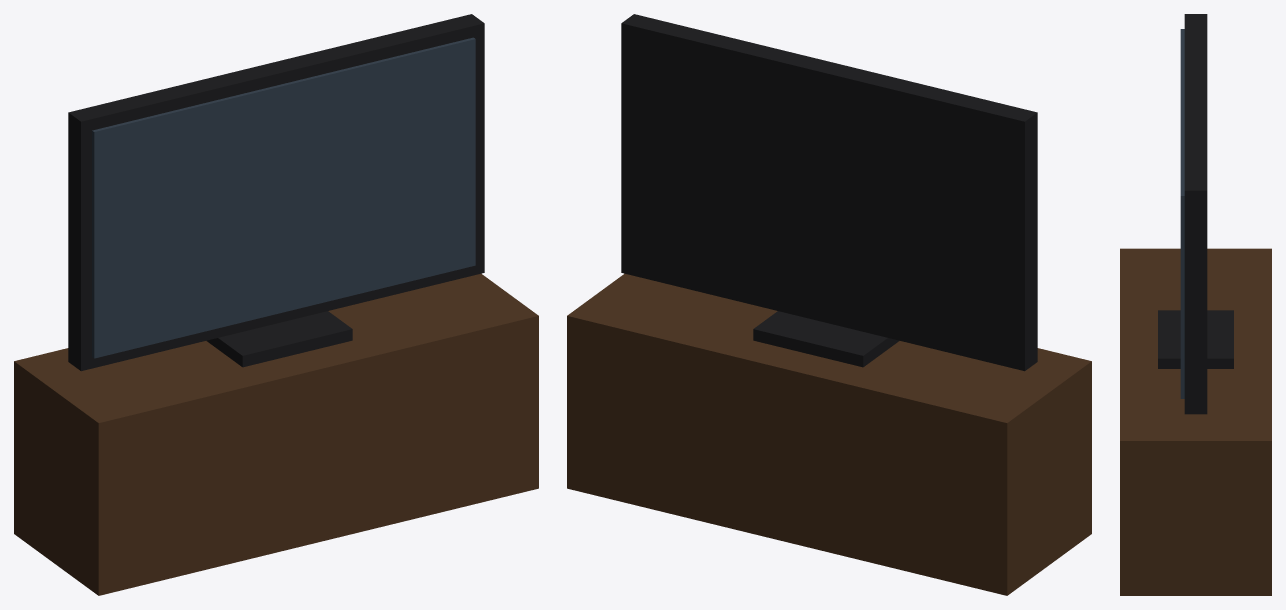
The picture shows the model from 3 angles, left to right: view 1: azimuth 30°, elevation 25°; view 2: azimuth 150°, elevation 25°; view 3: azimuth 270°, elevation 25°; orthographic projection. The views are drawn at different scales.
Parts seen in each view (by area): view 1: tv; view 2: tv; view 3: tv.
Part boxes in pixels (x1,y1,x2,y2): tv: (14,14,538,595); tv: (567,14,1091,595); tv: (1120,14,1271,595).
Size of the model in its own units: 1.2 by 1.15 by 0.4.
